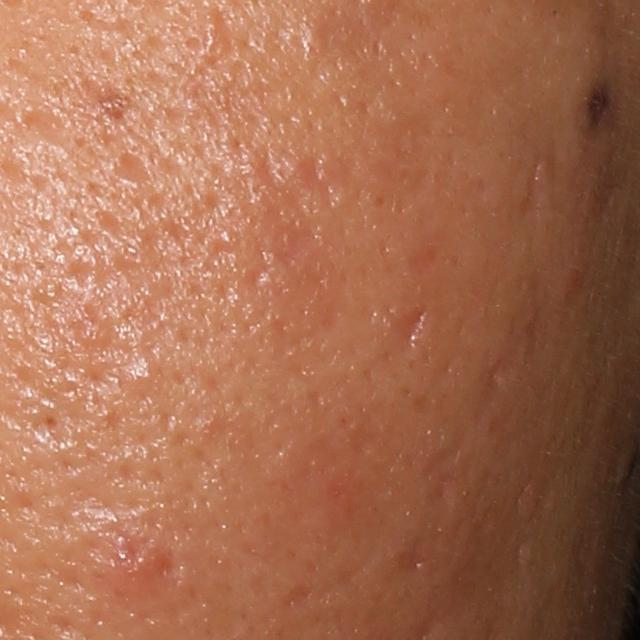atrophic_scar: (240, 204, 317, 297), (394, 304, 431, 350), (21, 108, 67, 143), (521, 151, 546, 215), (110, 151, 153, 188), (278, 583, 316, 612), (480, 359, 512, 392)
nevus: (585, 79, 618, 134)
